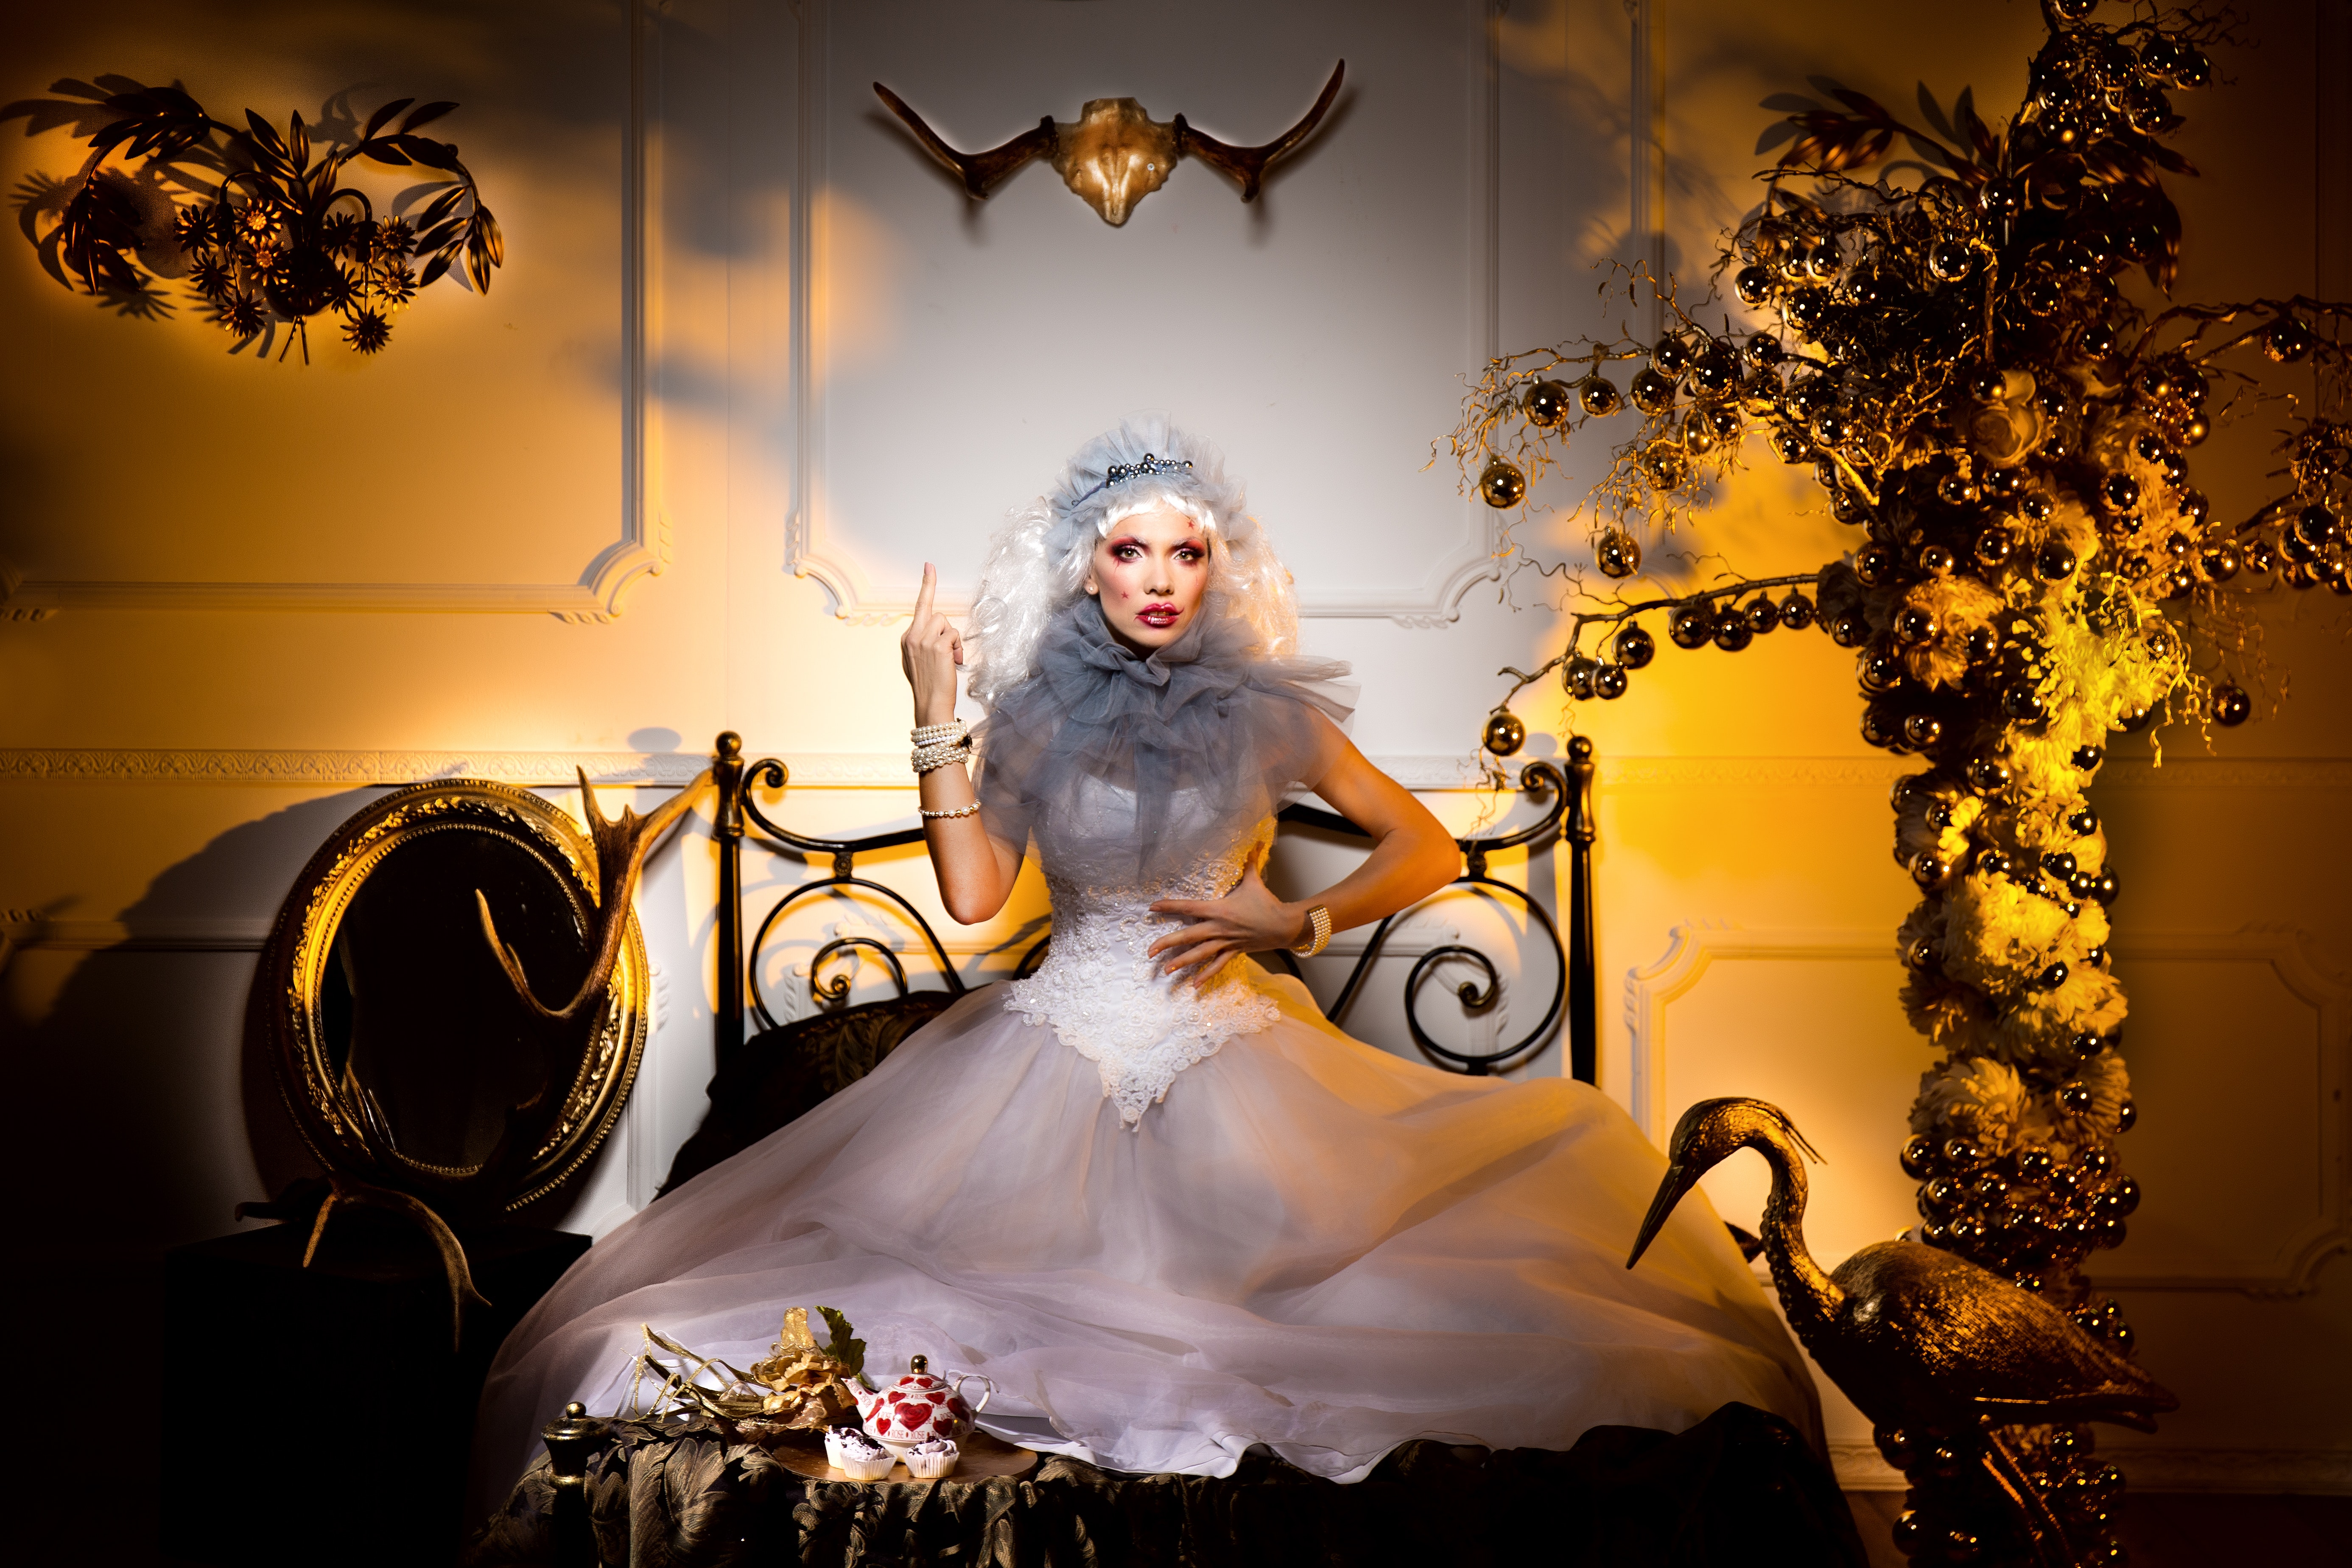bad fingers: (899, 558, 968, 705)
